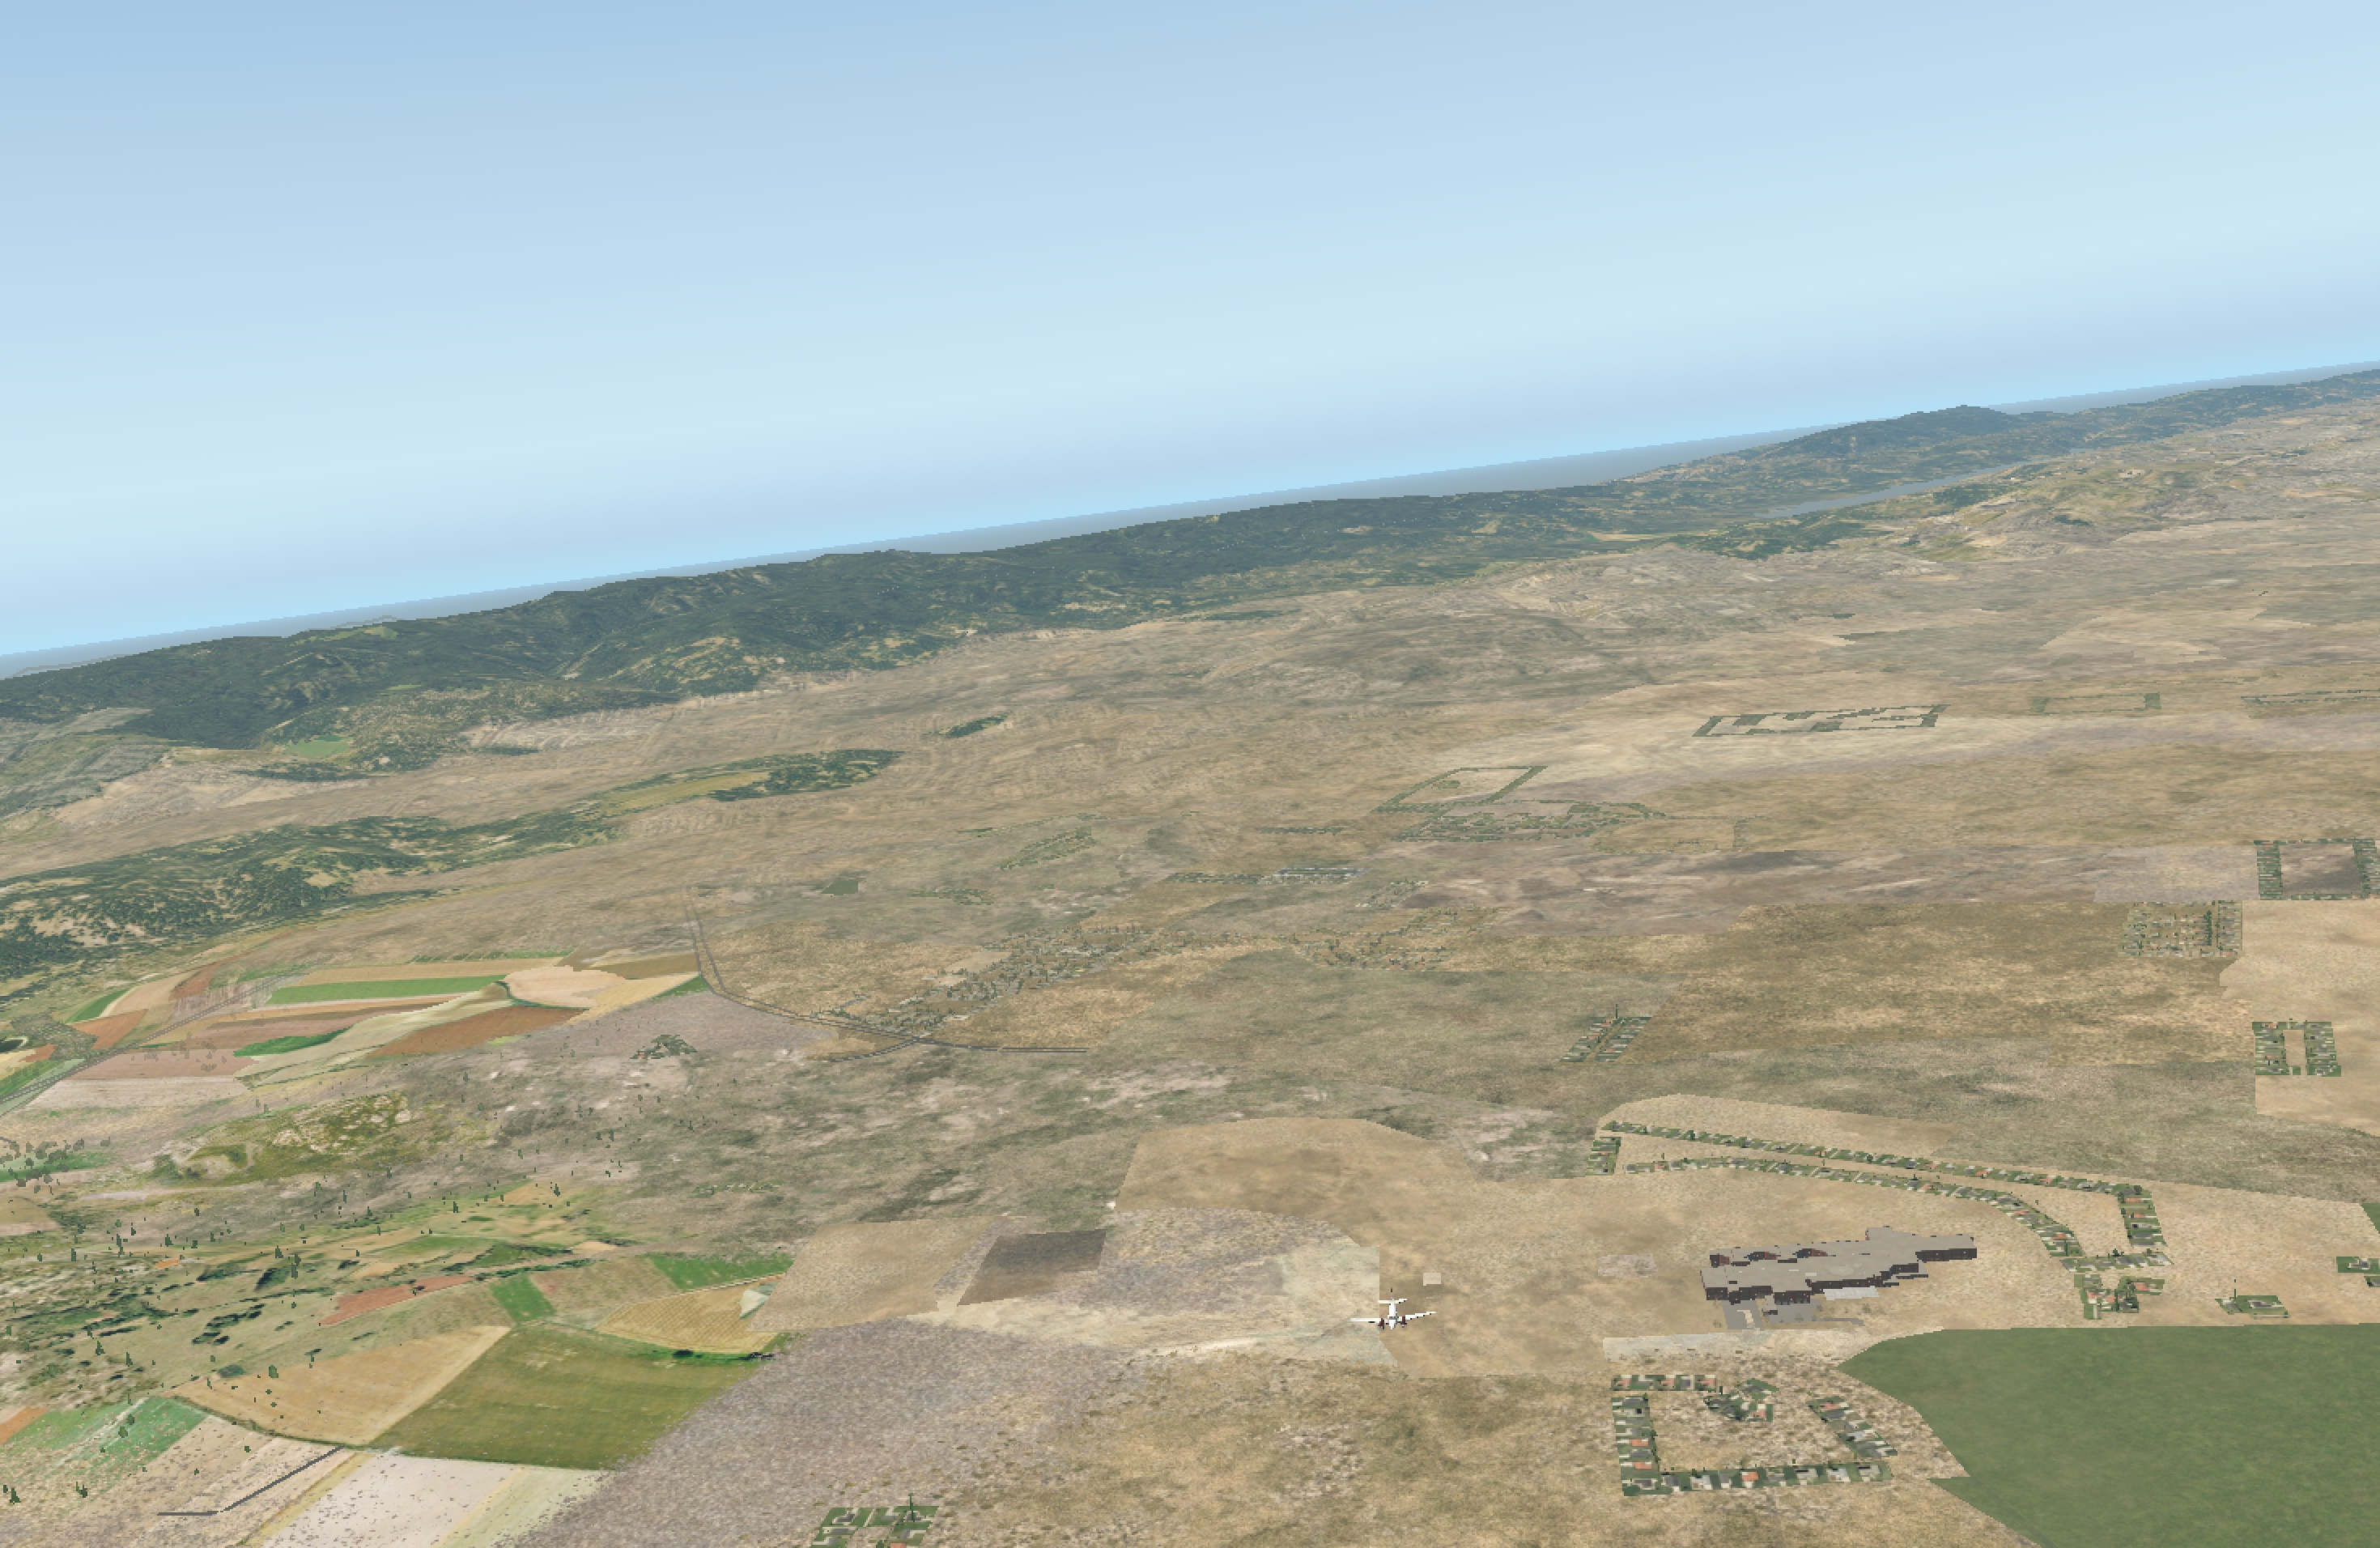aircraft: (1351, 1307, 1435, 1338)
